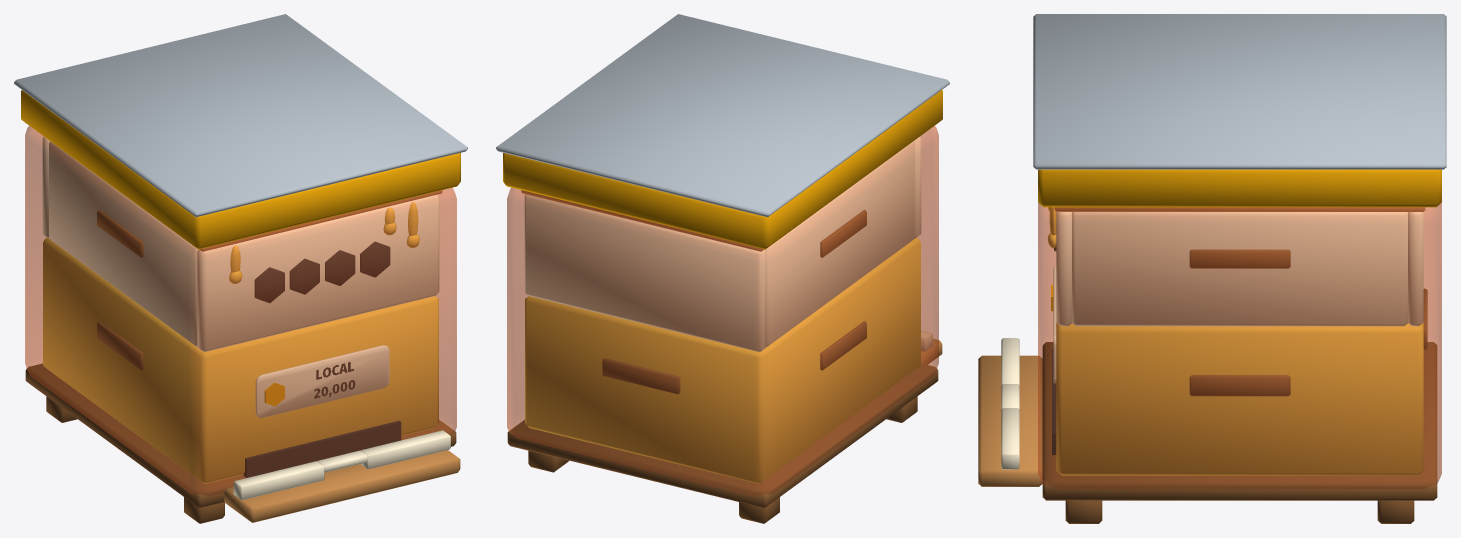
Rendered from hive.fbx.
3 views of the same model, side by side, from view 1: azimuth 30°, elevation 25°; view 2: azimuth 150°, elevation 25°; view 3: azimuth 270°, elevation 25° (orthographic). The views are drawn at different scales.
Parts seen in each view (by area): view 1: HeatGlow, Lid, BoxLower, BoxUpper, Stand, EntranceReducer, DoorSlot; view 2: HeatGlow, Lid, BoxLower, BoxUpper, Stand; view 3: HeatGlow, Lid, BoxLower, BoxUpper, Stand, EntranceReducer.
Boxes of the visible parts, <box> form: HeatGlow: <box>25,126,456,496</box>; Lid: <box>14,14,467,251</box>; BoxLower: <box>43,237,438,483</box>; BoxUpper: <box>42,137,439,352</box>; Stand: <box>25,363,460,523</box>; EntranceReducer: <box>233,430,450,500</box>; DoorSlot: <box>243,421,401,477</box>; HeatGlow: <box>507,126,938,496</box>; Lid: <box>496,14,949,251</box>; BoxLower: <box>525,237,920,483</box>; BoxUpper: <box>524,137,921,352</box>; Stand: <box>507,339,942,523</box>; HeatGlow: <box>1038,202,1441,489</box>; Lid: <box>1033,14,1446,211</box>; BoxLower: <box>1051,267,1427,475</box>; BoxUpper: <box>1047,207,1423,326</box>; Stand: <box>978,342,1437,523</box>; EntranceReducer: <box>1001,338,1019,469</box>.
Bounding box in the file's own units: 0.39 × 0.446 × 0.51.
Materials: 2 (2 with a texture image).
